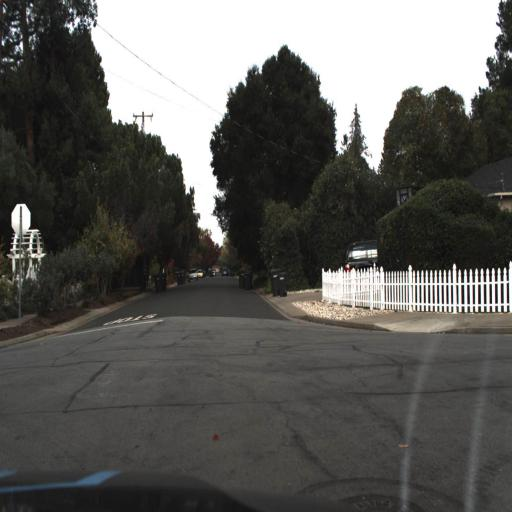car: (344, 236, 380, 276), (188, 268, 198, 282)
